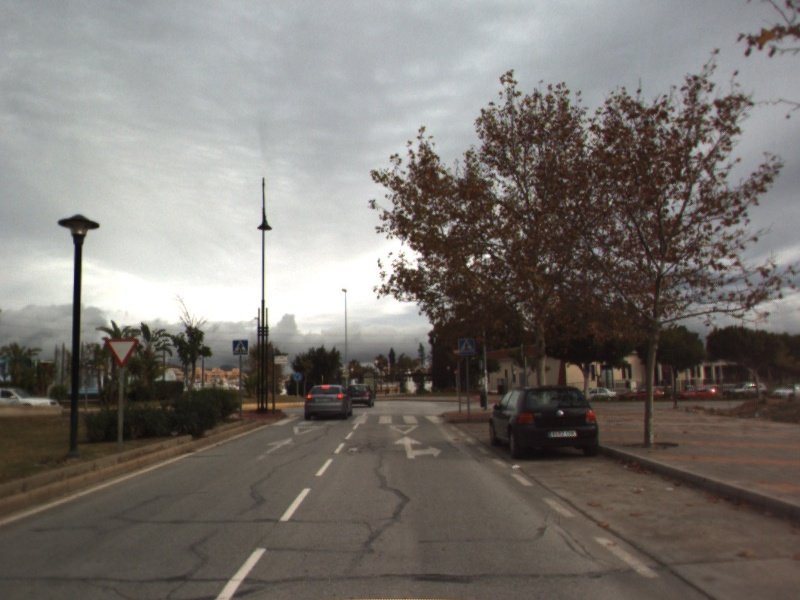STRAIGHT: (253, 435, 298, 462)
STRAIGHT_RIGHT: (390, 434, 444, 461)
